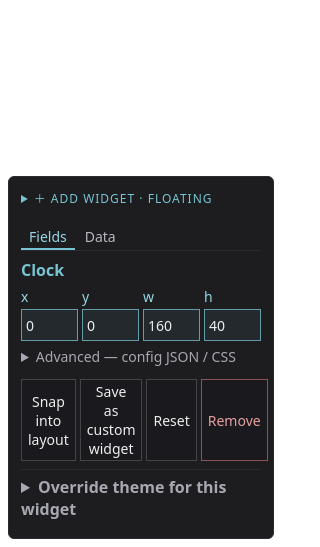
it: Inspector Data tab wiring › rejects a JSON array with "Expected a JSON object"
The image size is (320, 547).
Click the tab "Data": [100, 238] box [77,225,124,250]
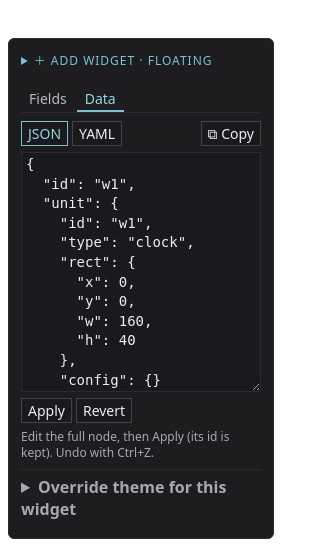
Replace the text in the text box named "Node JSON" with "[1, 2]": [141, 272] box [21,152,261,392]
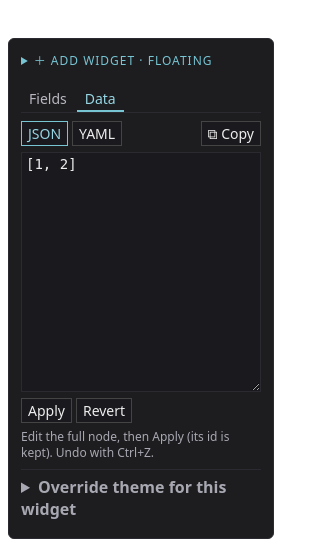
Click the button "Apply": [46, 410] box [21,398,72,423]
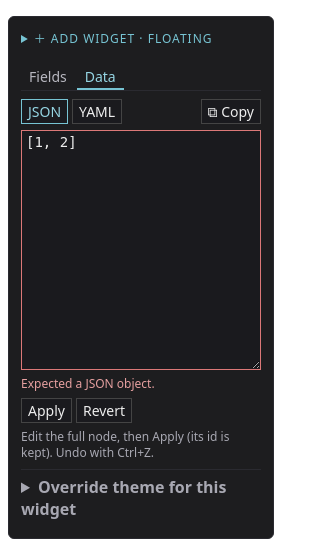
Expected: the text "Expected a JSON object." is shown, [21,375,155,392]
